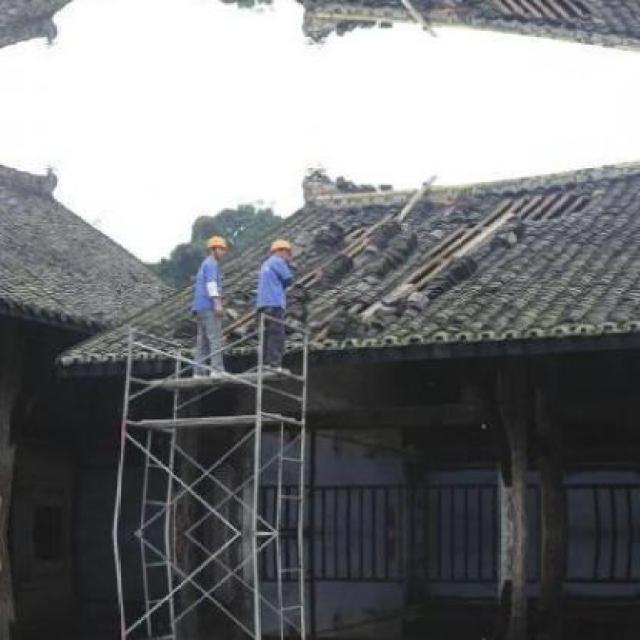helmet: (204, 232, 227, 258), (269, 233, 291, 259)
